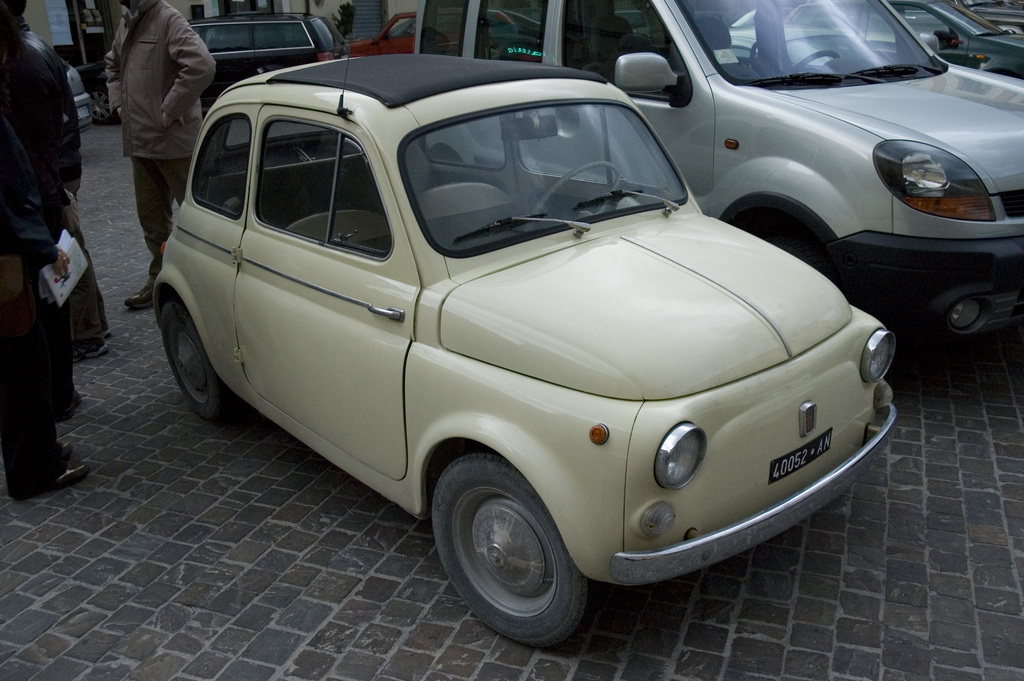Car: (142, 50, 888, 659), (418, 0, 1023, 344), (186, 13, 338, 142)
